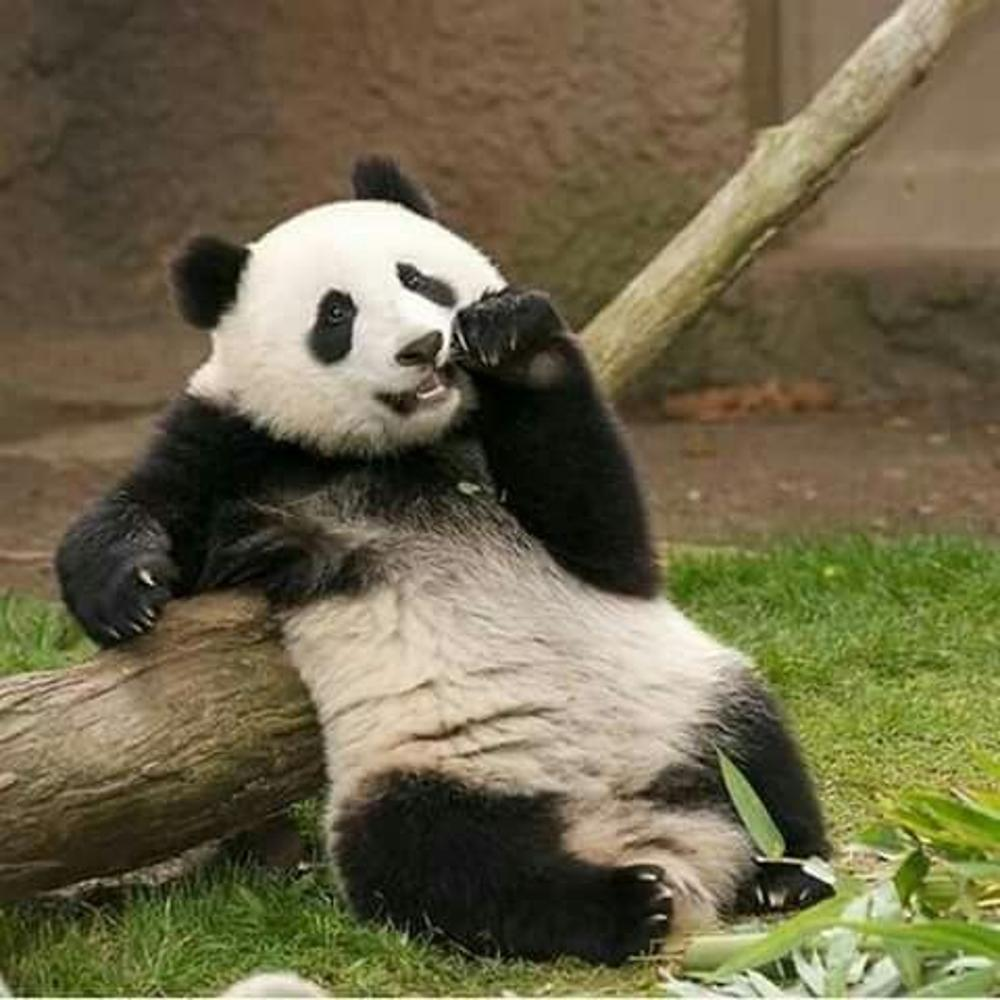panda: (72, 148, 816, 969)
